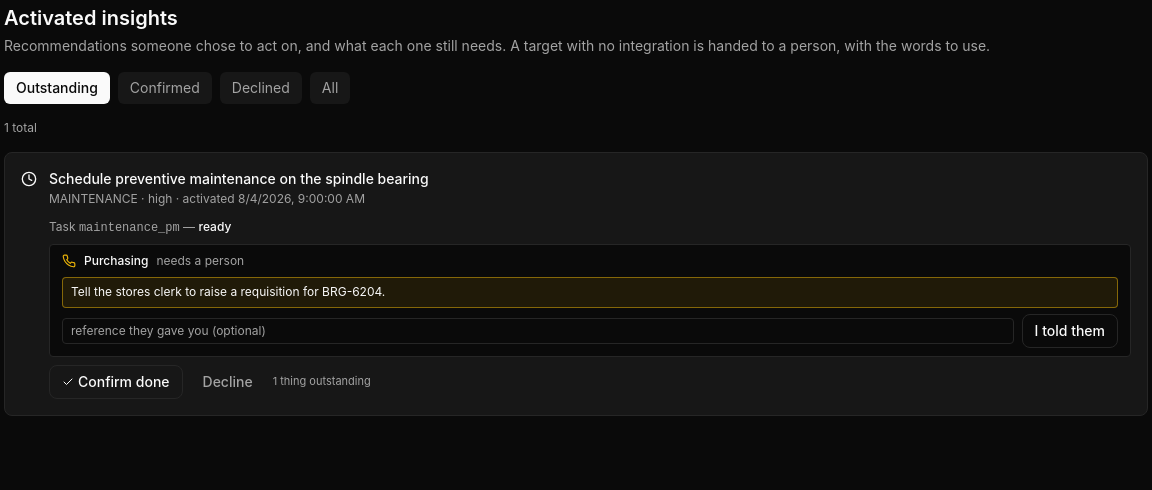
Test case: acting on one › shows the blockers the server refused a confirm with
The width and height of the screenshot is (1152, 490).
Click the button "Confirm done" at (116, 382), box [49, 364, 182, 398]
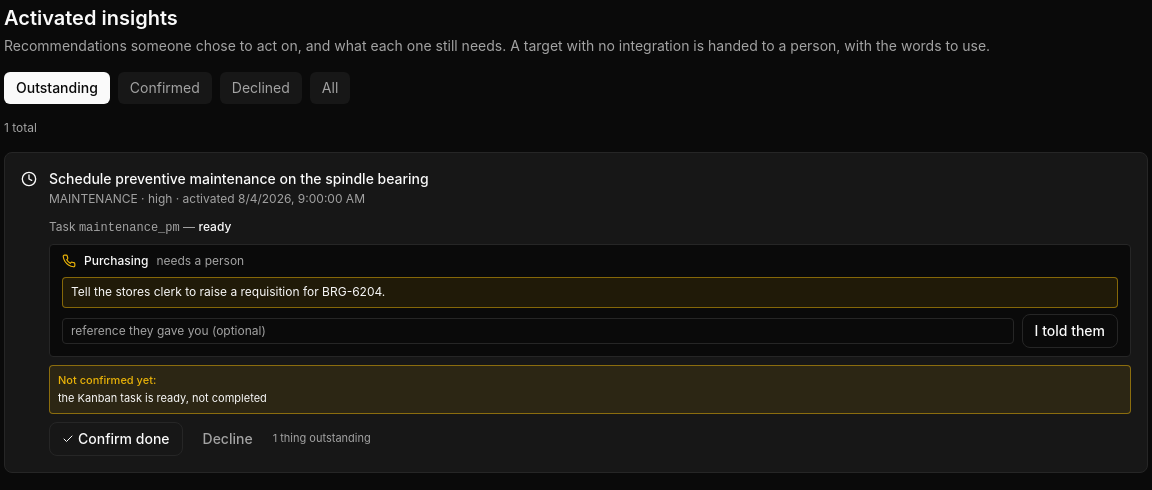
Now the text "Not confirmed yet:" is shown, box [58, 372, 156, 386]
Now the list item "the Kanban task is ready, not completed" is shown, box [58, 391, 267, 405]
